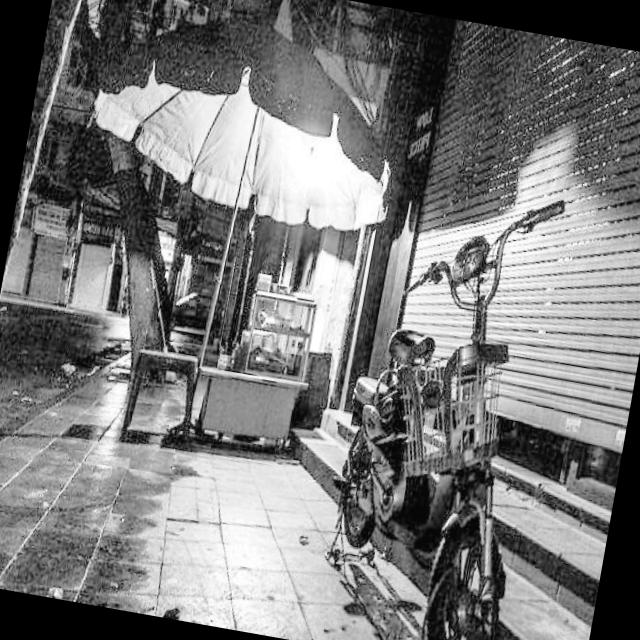Motorcycle: (291, 179, 606, 640)
